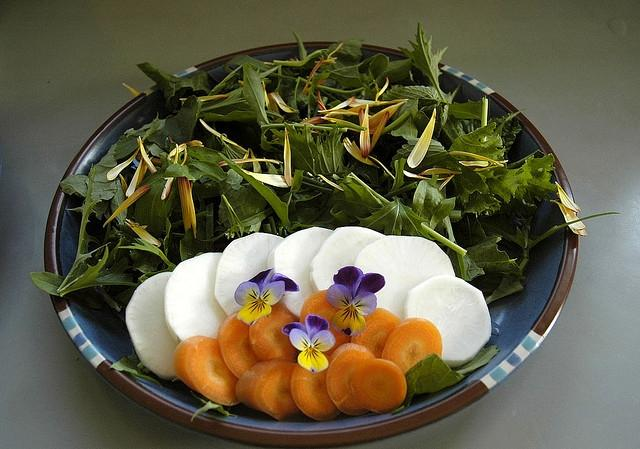carrot: (173, 336, 241, 406), (236, 357, 300, 420), (326, 342, 376, 416), (290, 354, 342, 422), (300, 289, 350, 358), (382, 318, 442, 374), (349, 358, 407, 414), (217, 310, 262, 380), (351, 308, 402, 359), (248, 310, 298, 362)
radish: (354, 235, 456, 321), (402, 274, 492, 368), (266, 227, 334, 319), (213, 232, 284, 318), (163, 252, 228, 345), (126, 272, 178, 380), (310, 226, 386, 292)
